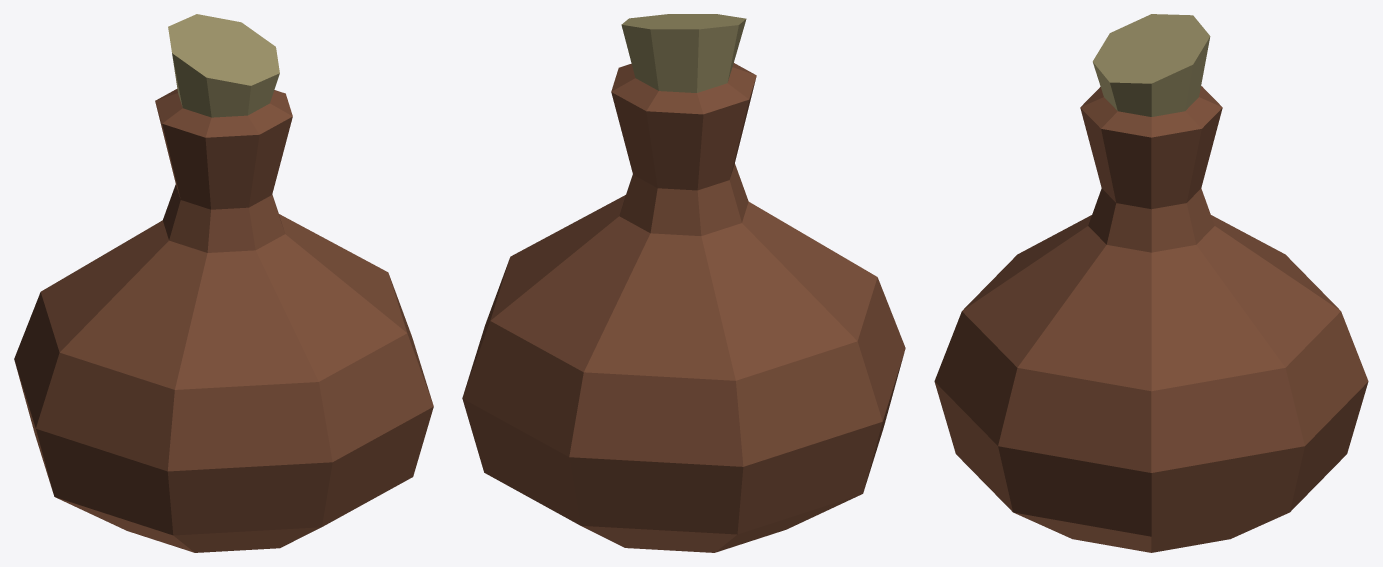
File: Potion_1.fbx
3 renders of one model, left to right at view 1: azimuth 30°, elevation 25°; view 2: azimuth 150°, elevation 25°; view 3: azimuth 270°, elevation 25°, orthographic. The views are drawn at different scales.
Parts seen in each view (by area): view 1: Potion_1; view 2: Potion_1; view 3: Potion_1.
Part boxes in pixels (x1,y1,x2,y2): Potion_1: [14, 14, 433, 552]; Potion_1: [462, 14, 905, 552]; Potion_1: [934, 14, 1368, 552].
Size of the model in its own units: 13.32 by 16.03 by 13.32.
